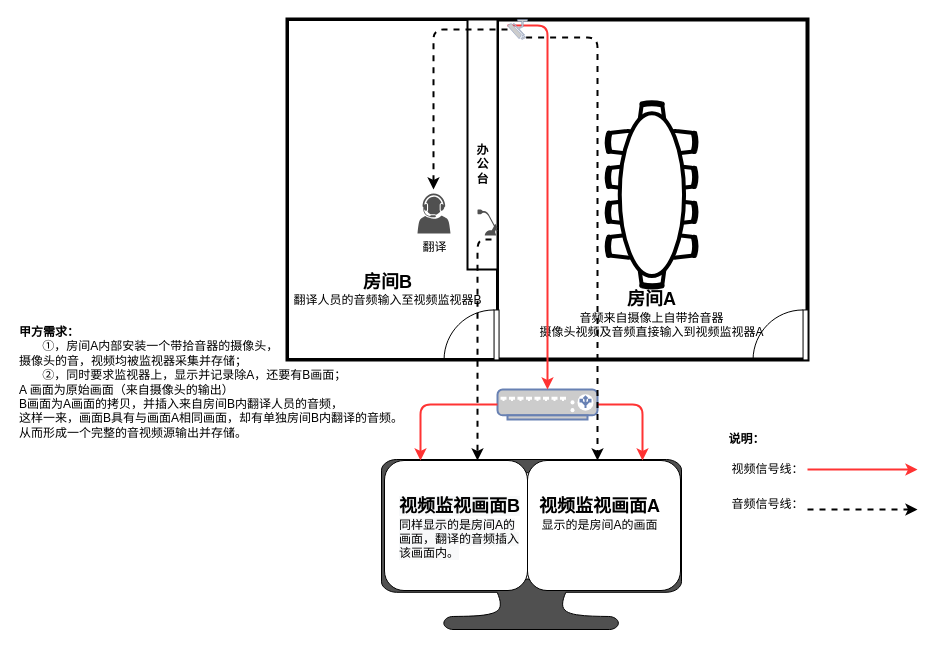
This 943x647 diagram has some shape labels left out. The shapes that lost their labels are listed below. From the top down, each one's centre as x and y in pixels, then its label:
(x=651, y=194): 会 议 桌
(x=547, y=404): 视频分割器
